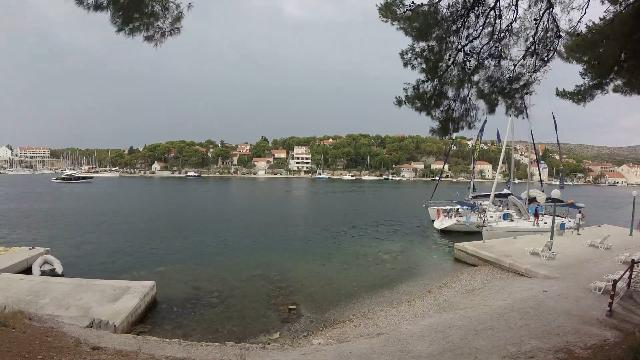speedboat: (42, 162, 98, 184)
